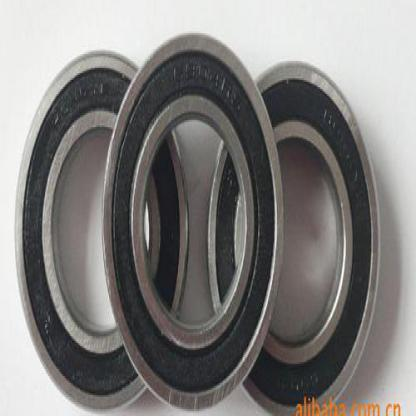FOD: (98, 26, 288, 414), (10, 47, 191, 414), (204, 49, 384, 414)
